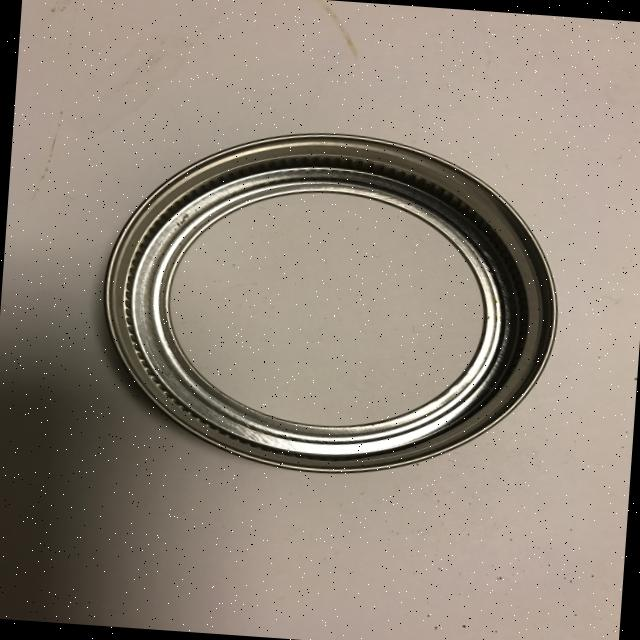metal: (91, 116, 570, 488)
